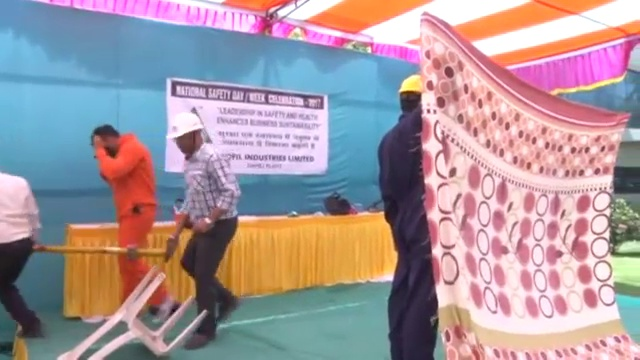helmet: (164, 112, 204, 139), (396, 72, 424, 95)
helmet_off: (88, 121, 122, 154)
helmet_on: (164, 113, 204, 157), (395, 71, 424, 116)
person: (373, 72, 441, 359), (162, 112, 243, 346), (86, 120, 179, 318), (1, 165, 40, 335)
